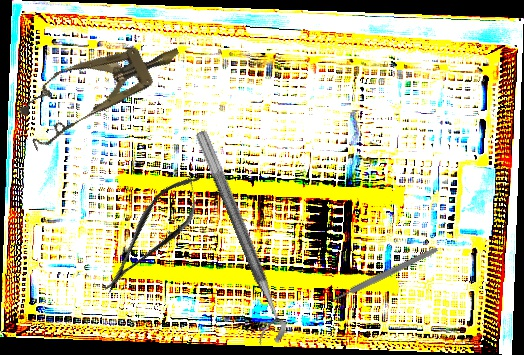Fixation Ring: (177, 129, 292, 350)
Micro Scissor: (87, 162, 217, 305)
Scalpel Handle: (330, 245, 440, 304)
Speculum: (10, 22, 192, 152)
